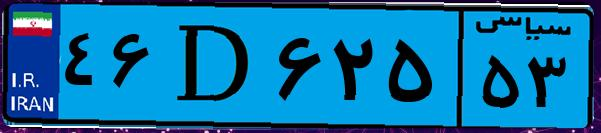2: (330, 28, 385, 110)
3: (525, 38, 570, 115)
4: (57, 26, 110, 100)
5: (385, 28, 445, 110), (475, 38, 525, 113)
6: (270, 28, 330, 110), (110, 28, 158, 98)
D: (158, 12, 270, 120)
